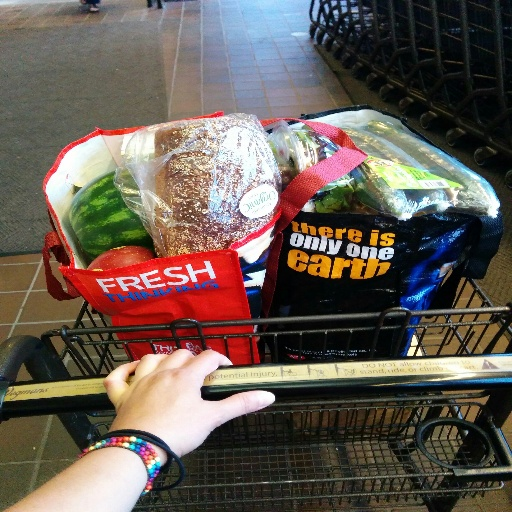hand: (102, 345, 253, 464)
